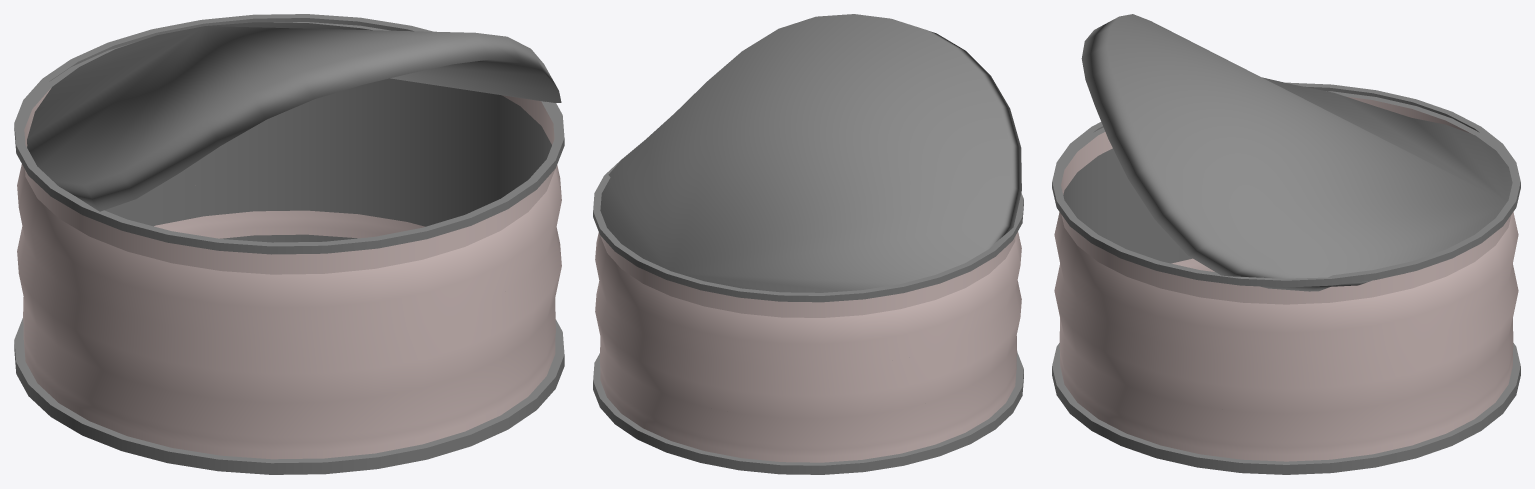
File: cannedFood.fbx
3 views of the same model, side by side, from view 1: azimuth 30°, elevation 25°; view 2: azimuth 150°, elevation 25°; view 3: azimuth 270°, elevation 25° (orthographic). The views are drawn at different scales.
Parts seen in each view (by area): view 1: Cylinder, Cylinder.001; view 2: Cylinder.001, Cylinder; view 3: Cylinder, Cylinder.001.
Part boxes in pixels (bbox=[...]): Cylinder: bbox=[14, 14, 564, 474]; Cylinder.001: bbox=[27, 22, 561, 211]; Cylinder.001: bbox=[600, 14, 1021, 292]; Cylinder: bbox=[593, 159, 1023, 474]; Cylinder: bbox=[1052, 82, 1520, 474]; Cylinder.001: bbox=[1081, 14, 1512, 291].
Size of the model in its own units: 207 by 161 by 207.
